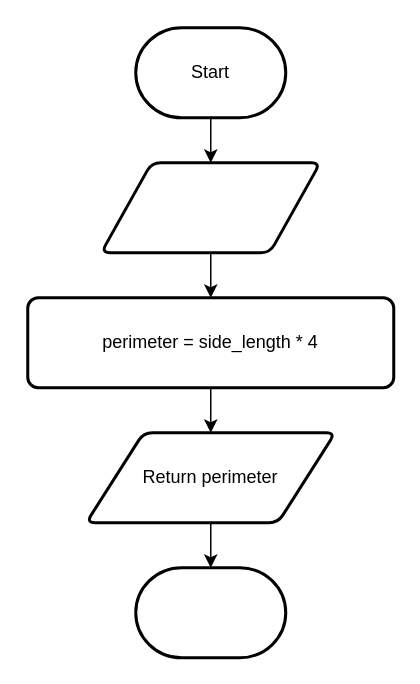
This 420x684 diagram has some shape labels left out. Here are the shapes that lost their labels. From the top down, the centre of each, then its label:
(210,207): Get side_length
(210,612): Stop
